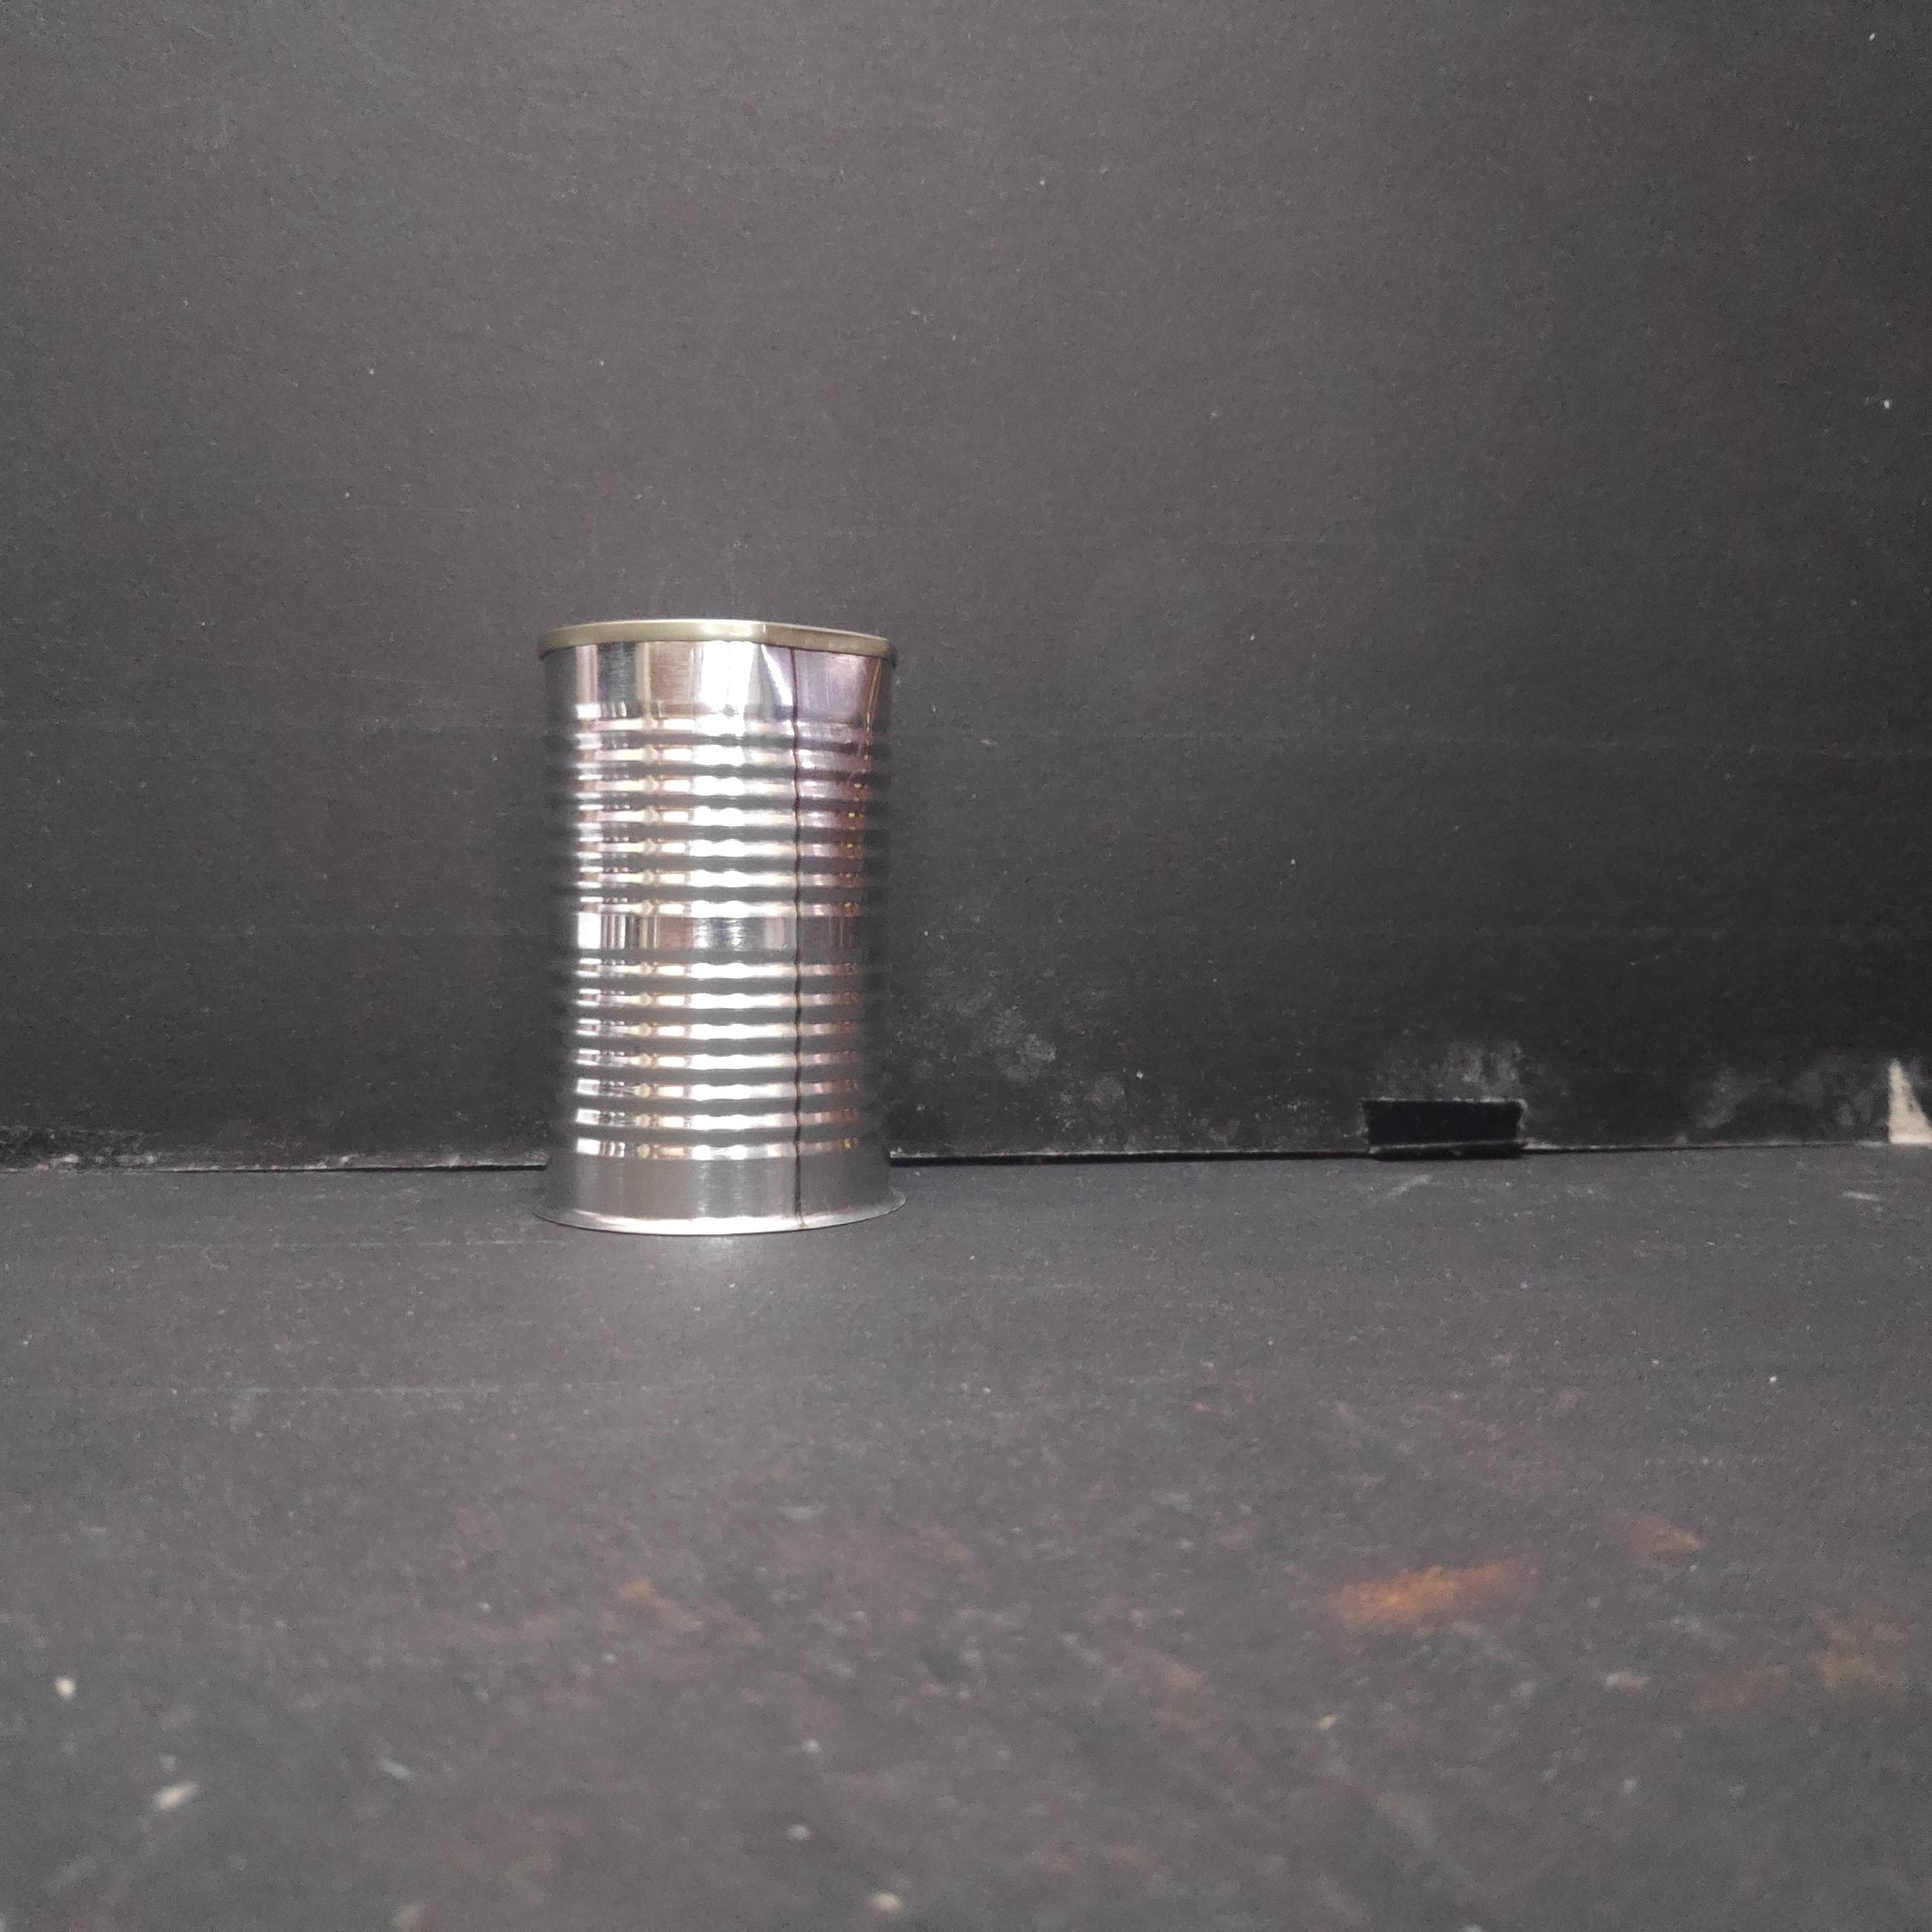Minor Defect: (535, 601, 905, 1249)
